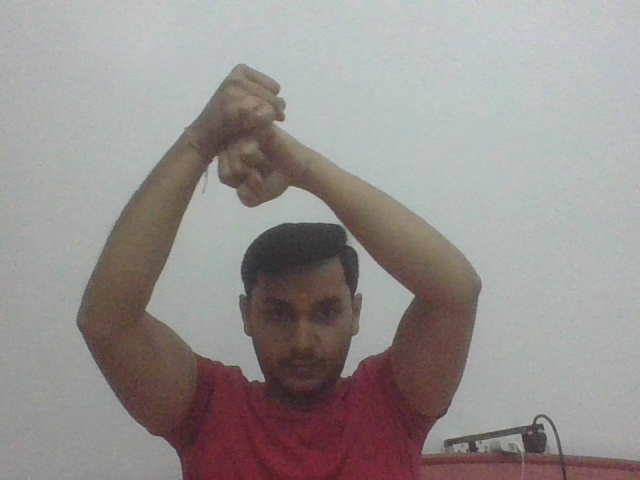S: (209, 53, 292, 218)
